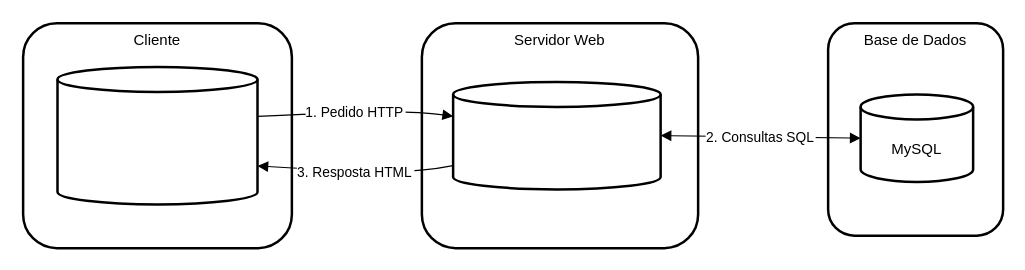
Some shapes in this 1025 by 270 pixel diagram are drawn without their labels. Here are the shapes that lost their labels. From the top down, the centre of each, then its label:
[157,135]: Navegador do Utilizador
[556,135]: Apache/Nginx com PHP
